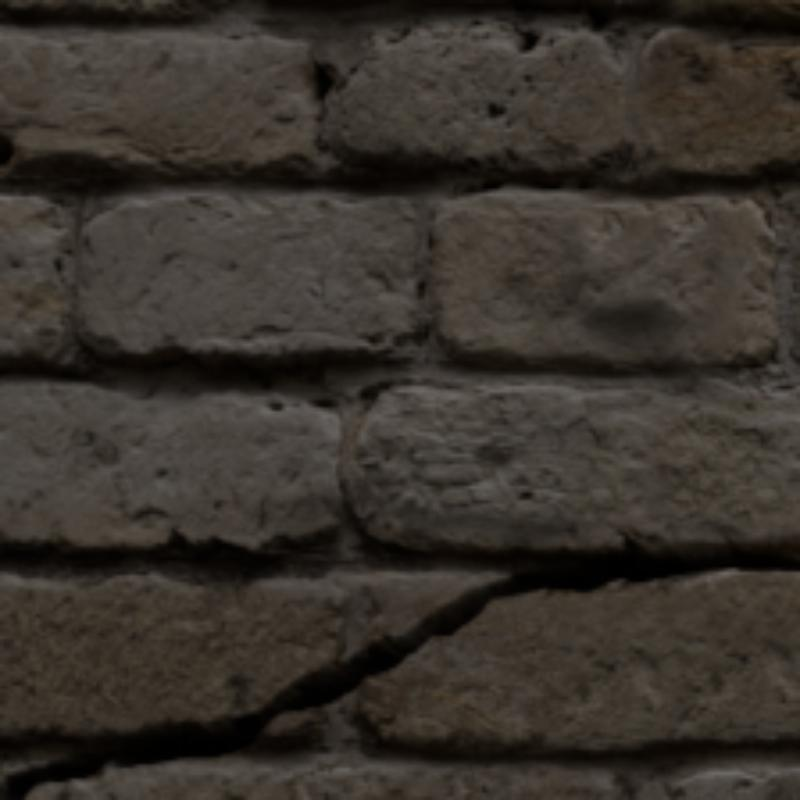pothole: (7, 539, 796, 796)
